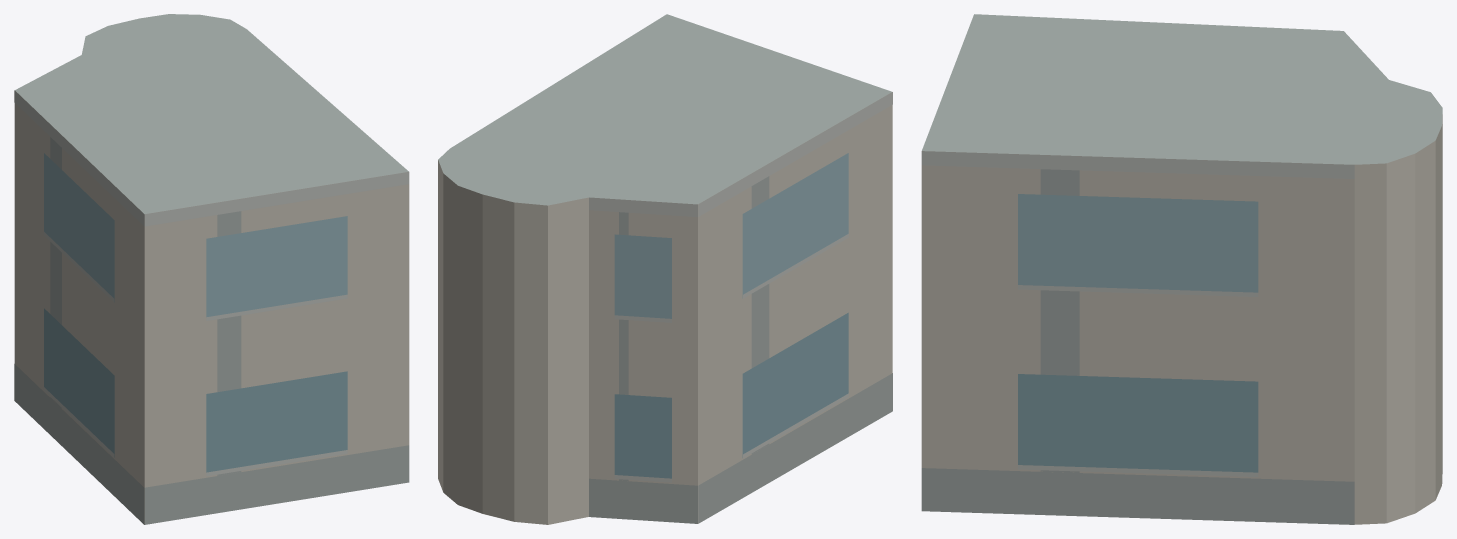
The model's file is survey-upis-32910083.glb.
The picture shows the model from 3 angles, left to right: view 1: azimuth 30°, elevation 25°; view 2: azimuth 150°, elevation 25°; view 3: azimuth 270°, elevation 25°; orthographic projection. The views are drawn at different scales.
Visible parts, largest first — view 1: survey-upis-32910083.tmp; view 2: survey-upis-32910083.tmp; view 3: survey-upis-32910083.tmp.
Boxes of the visible parts, bbox=[...] form: survey-upis-32910083.tmp: bbox=[14, 14, 409, 524]; survey-upis-32910083.tmp: bbox=[438, 14, 892, 524]; survey-upis-32910083.tmp: bbox=[921, 14, 1442, 524].
Bounding box in the file's own units: 5.49 × 6.1 × 8.01.
